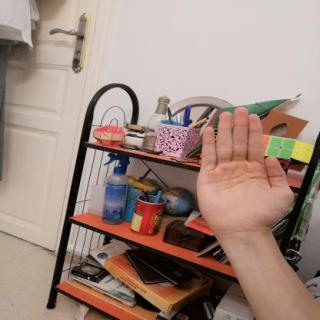SEEN: (189, 101, 302, 242)
